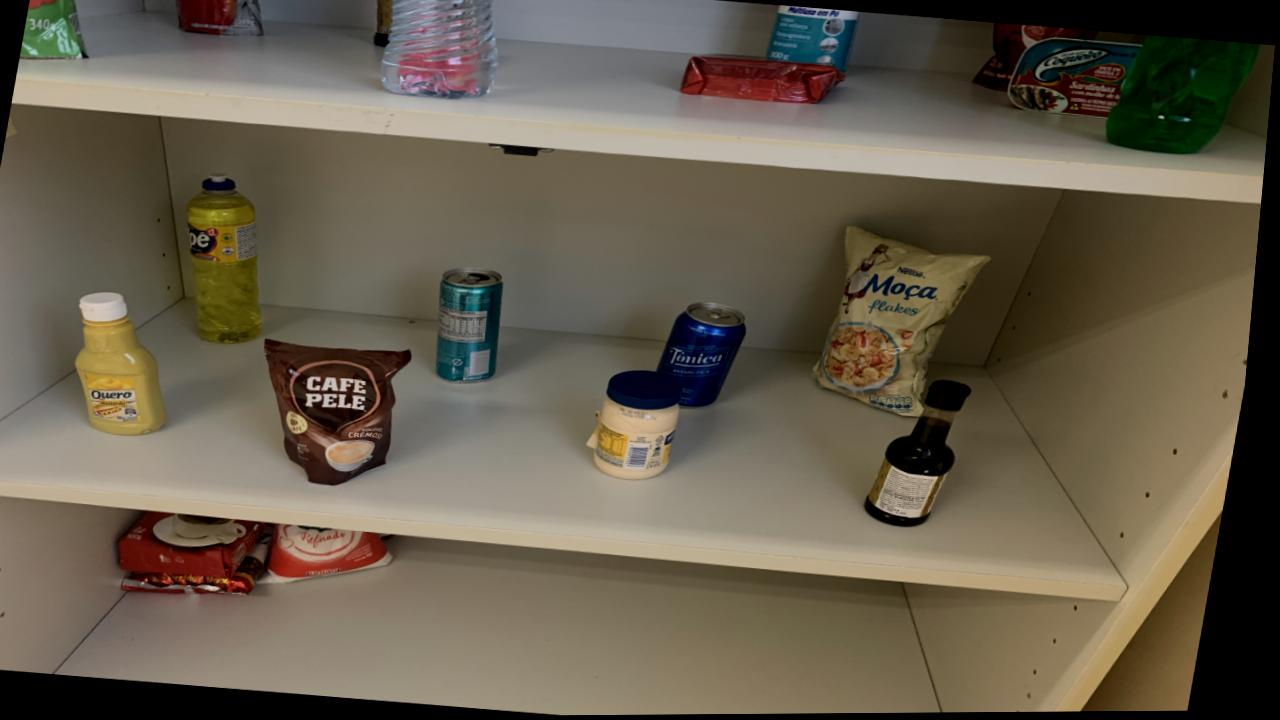Cleaner-Cleanup_Items: (767, 7, 859, 72)
Coffee-Pantry_Items: (270, 340, 417, 486)
Detergent-Cleanup_Items: (1108, 37, 1260, 156), (189, 176, 267, 344)
English_Sauce-Pantry_Items: (874, 382, 978, 529), (373, 0, 393, 48)
Flakes-Snacks: (820, 228, 994, 418)
Guava-Snacks: (681, 56, 847, 105)
Mayonnaise-Pantry_Items: (601, 371, 690, 482)
Mustard-Pantry_Items: (82, 292, 174, 435)
Tea-Drinks: (442, 268, 508, 384)
Tomato_Sauce-Pantry_Items: (974, 24, 1099, 93), (20, 0, 88, 59), (174, 0, 263, 36)
Tonic-Drinks: (663, 303, 752, 409)
Tuna_Can-Pantry_Items: (1007, 39, 1142, 118)
Water_Bottle-Drinks: (381, 0, 498, 99)
